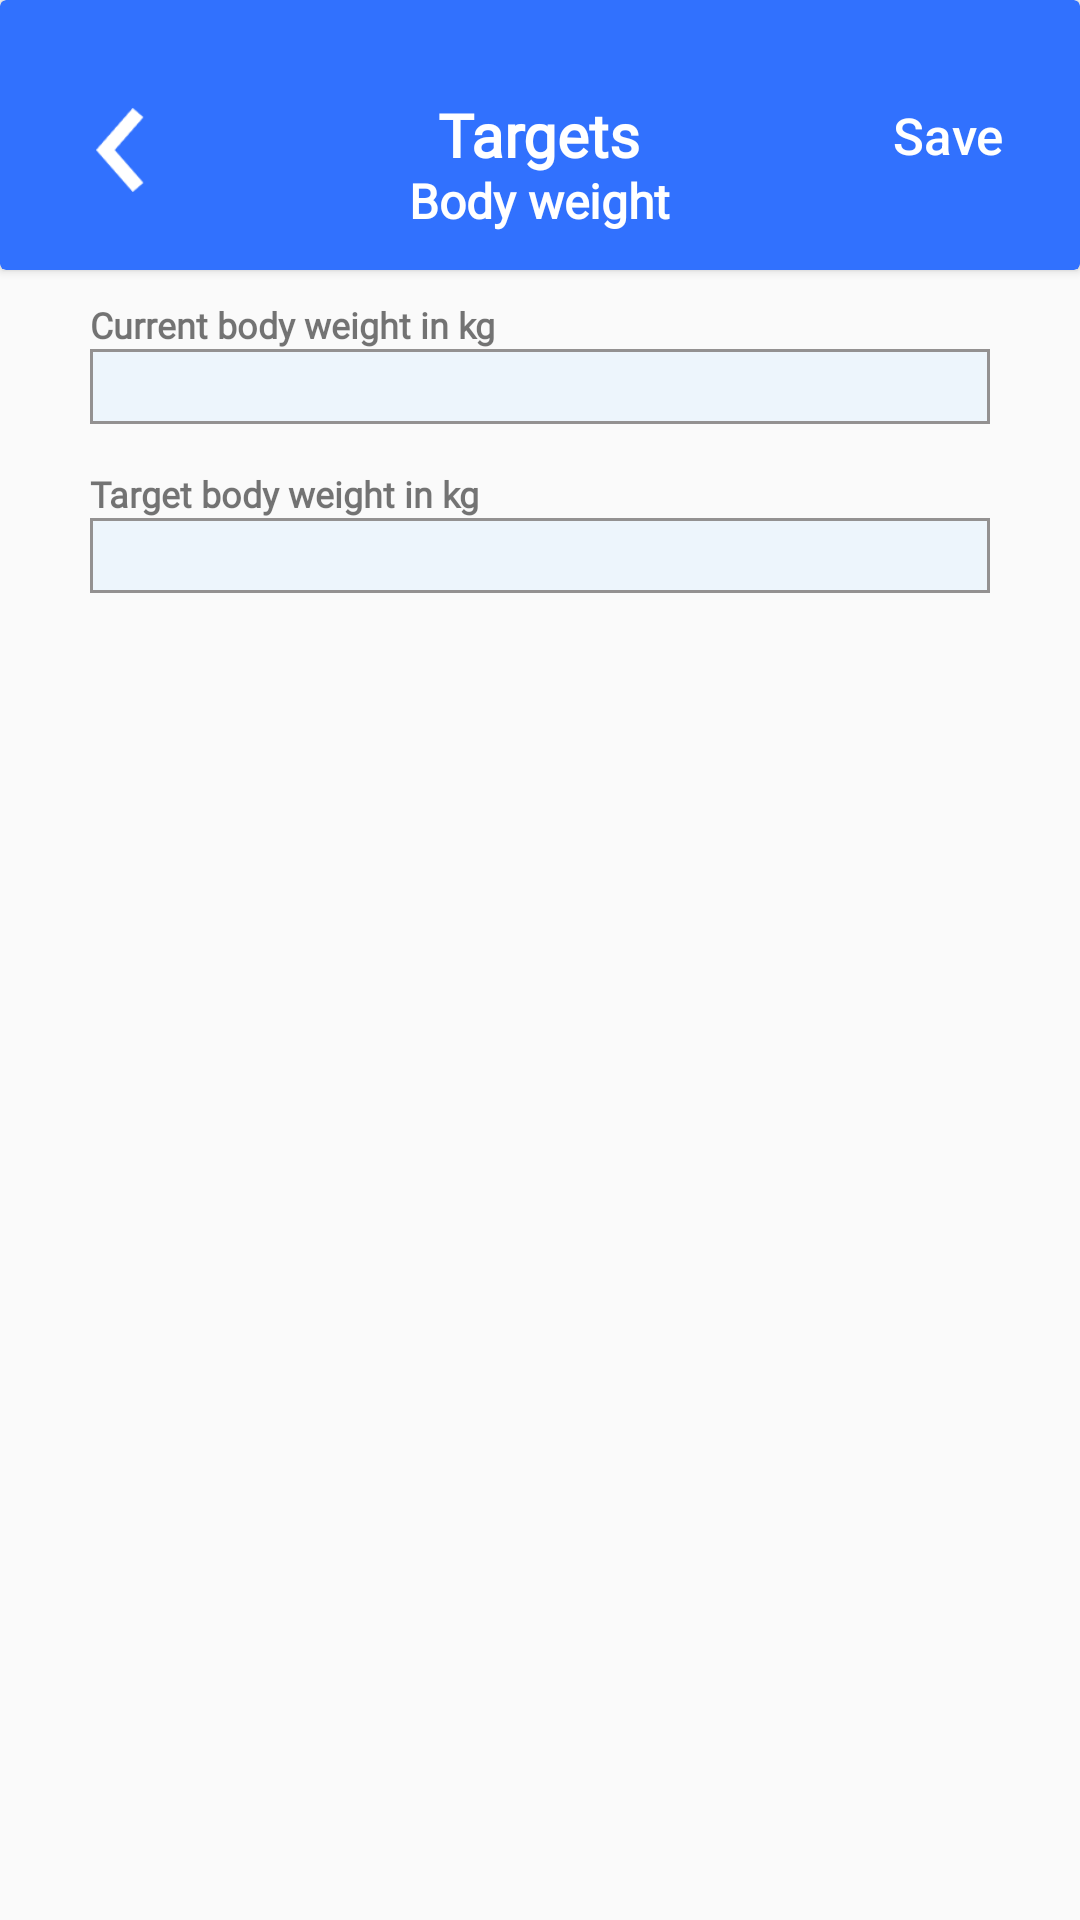

Named icons in this screenshot (1080px x 1920px) and their centers, [x,y]:
arrow left: [120,150]
